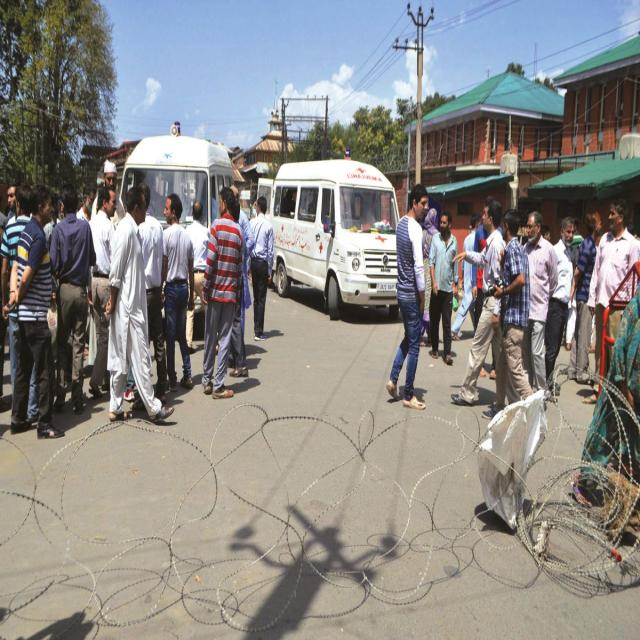emergency: (270, 159, 399, 317), (121, 132, 234, 228)
